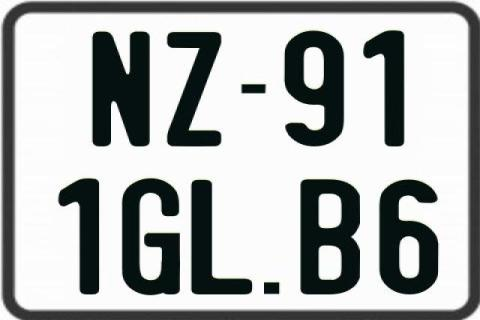0: (379, 178, 443, 298), (282, 30, 342, 146), (362, 30, 406, 148), (56, 176, 98, 293)
B: (302, 177, 362, 297)
G: (120, 178, 178, 296)
L: (191, 178, 255, 294)
N: (89, 30, 147, 148)
Z: (165, 31, 221, 147)
